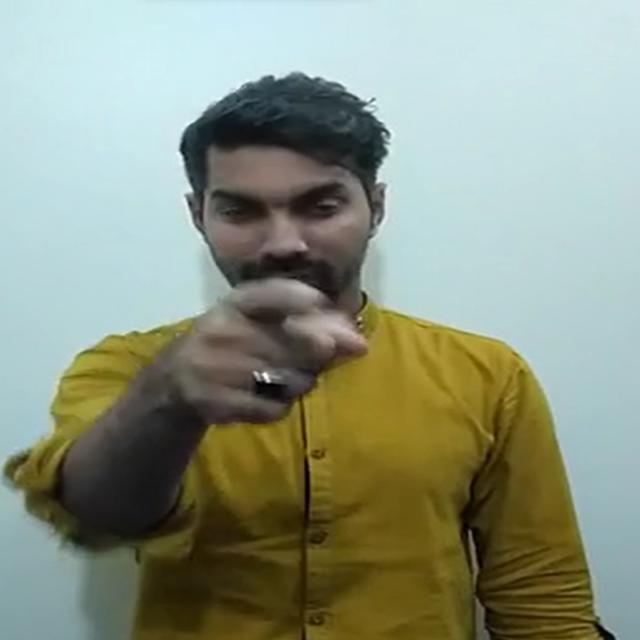you: (173, 278, 369, 424)
